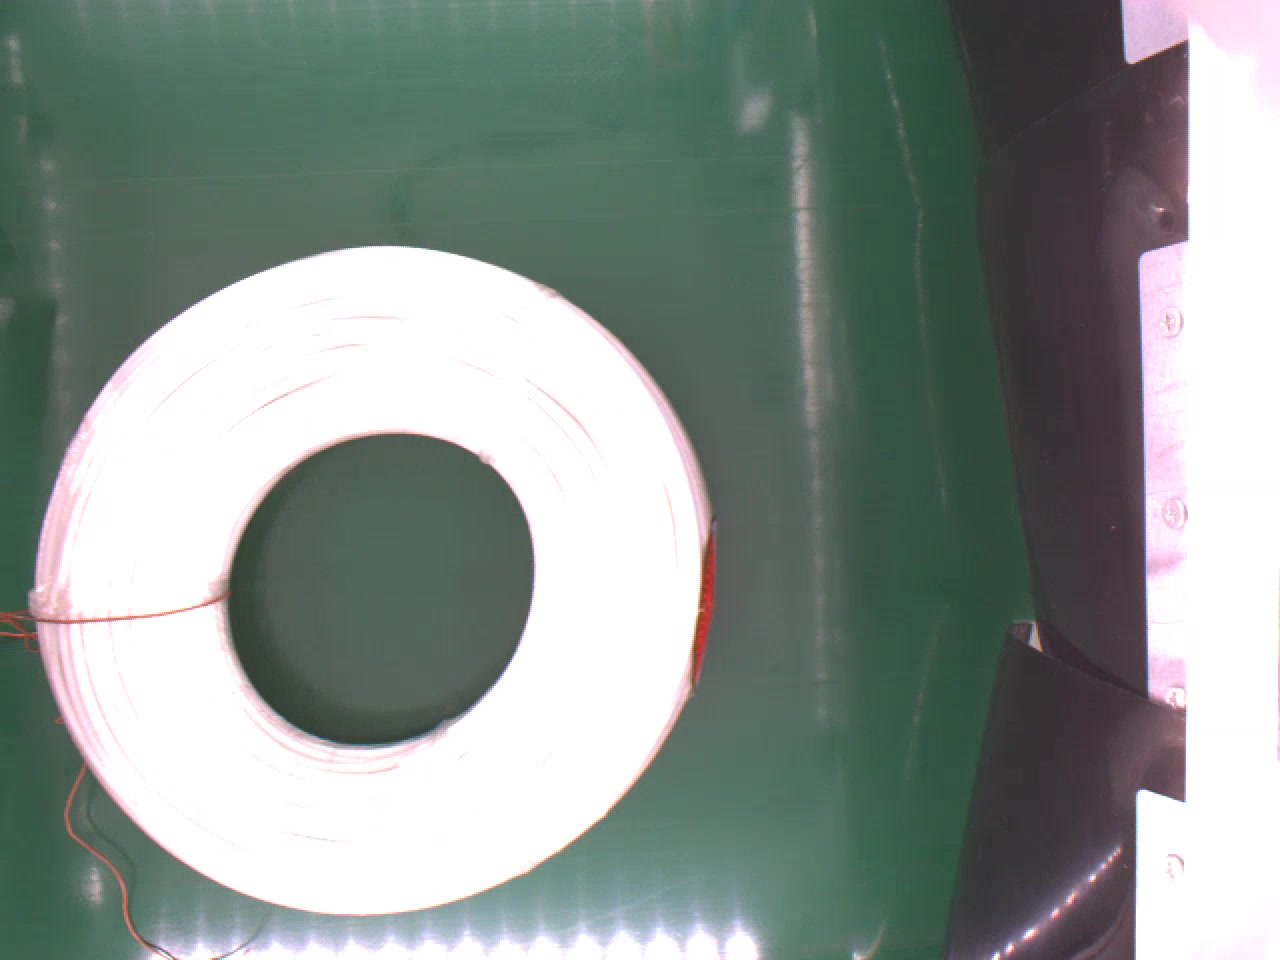white: (35, 235, 713, 906)
